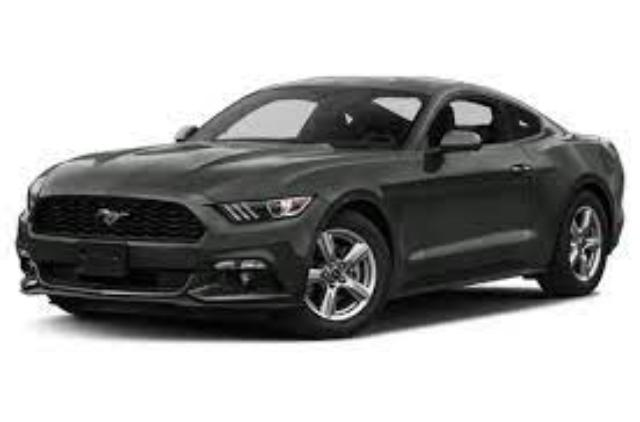ford-mustang: (15, 77, 625, 338)
